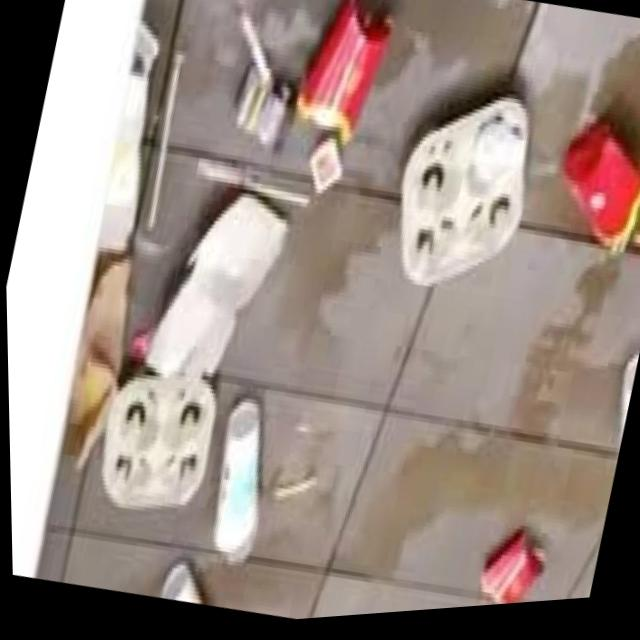fabric: (265, 462, 323, 532), (621, 183, 640, 298)
leaf: (190, 376, 287, 578), (212, 5, 308, 166), (131, 42, 200, 249), (295, 136, 353, 210)
paper: (136, 167, 303, 420)
trash: (370, 72, 557, 325), (42, 248, 151, 513), (84, 10, 190, 268), (81, 367, 218, 562), (285, 0, 403, 157), (542, 124, 640, 277), (454, 517, 564, 614)
